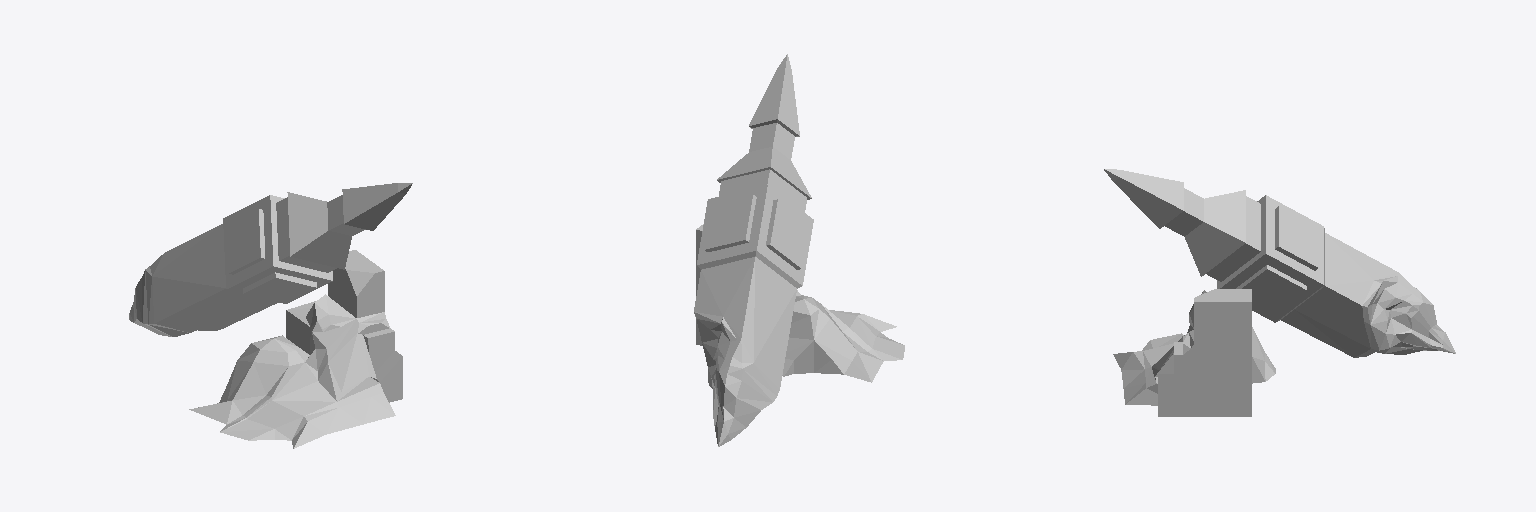
Rendered from bigben.obj.
3 views of the same model, side by side, from view 1: azimuth 30°, elevation 25°; view 2: azimuth 150°, elevation 25°; view 3: azimuth 270°, elevation 25° (orthographic).
Parts seen in each view (by area): view 1: Box02, Box01; view 2: Box01, Box02; view 3: Box01, Box02.
Boxes of the visible parts, <box> form: Box02: <box>189,250,402,448</box>; Box01: <box>129,183,412,336</box>; Box01: <box>694,54,813,446</box>; Box02: <box>696,224,904,382</box>; Box01: <box>1104,169,1455,357</box>; Box02: <box>1113,289,1275,416</box>.
Bounding box in the file's own units: 103 × 138 × 183.